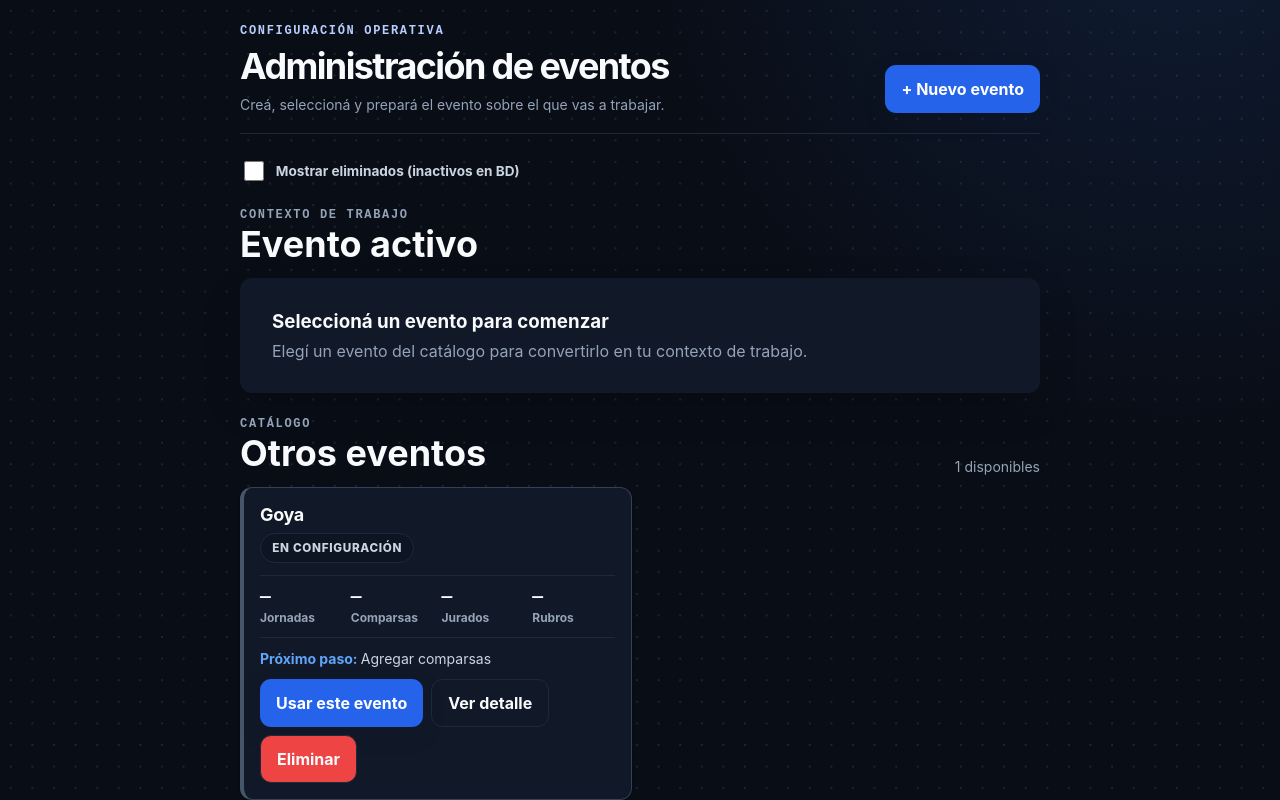
AdminEventsPage › muestra error cuando las noches no pueden cargarse
Step 1. Click the button "Usar este evento" → (342, 703), box [260, 679, 423, 727]
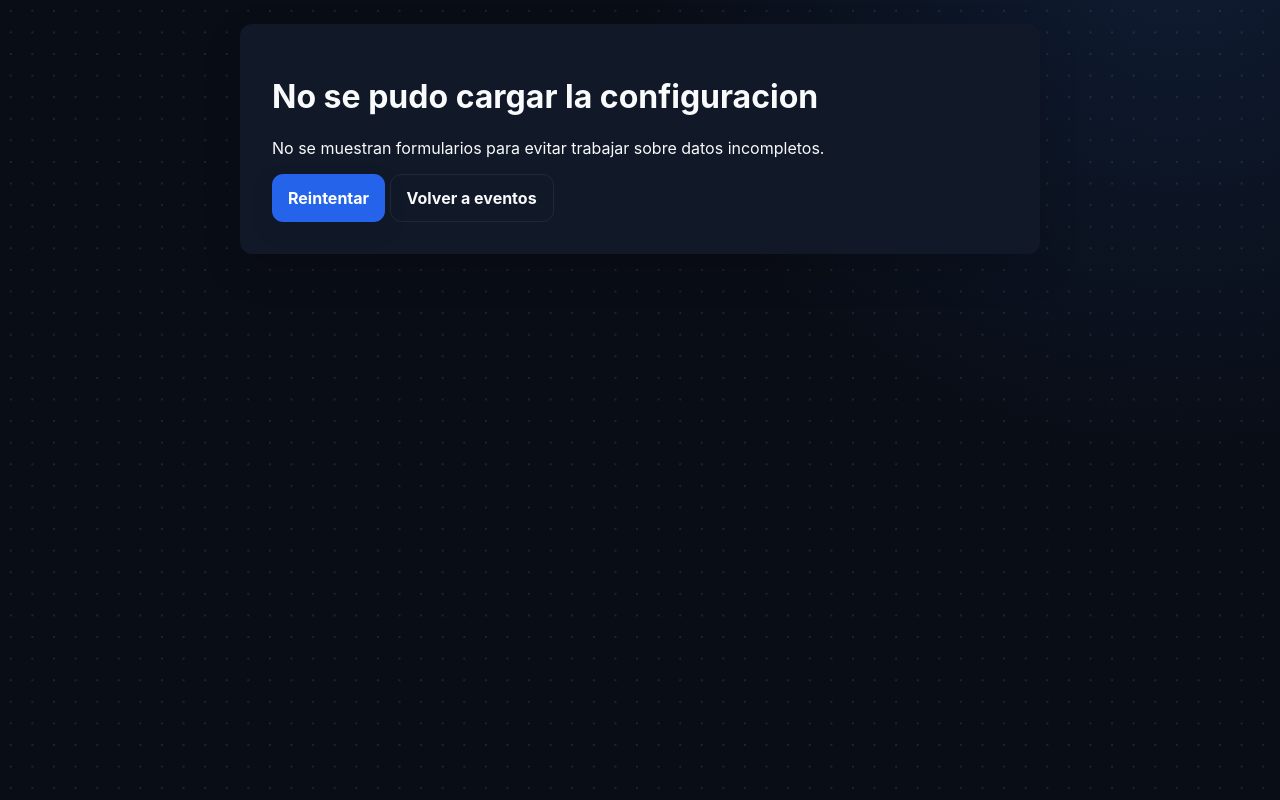
expect the heading "No se pudo cargar la configuracion" is shown: met, box [272, 77, 818, 116]
